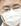with_mask: (1, 2, 21, 26)
